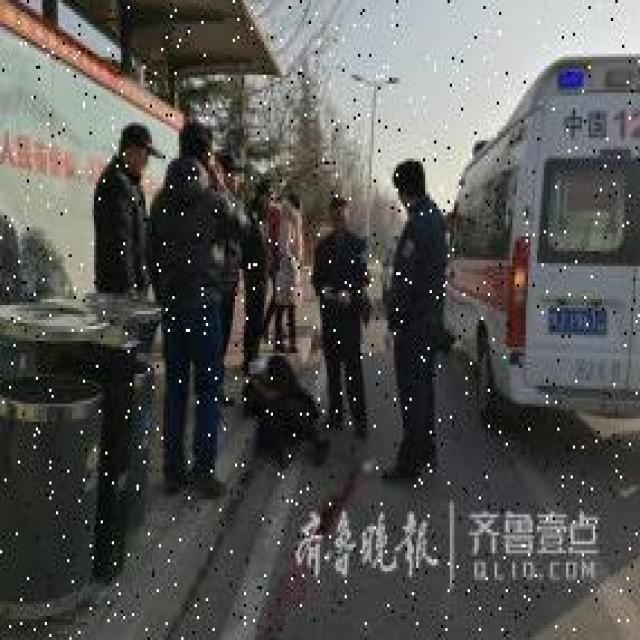fall: (242, 353, 322, 457)
